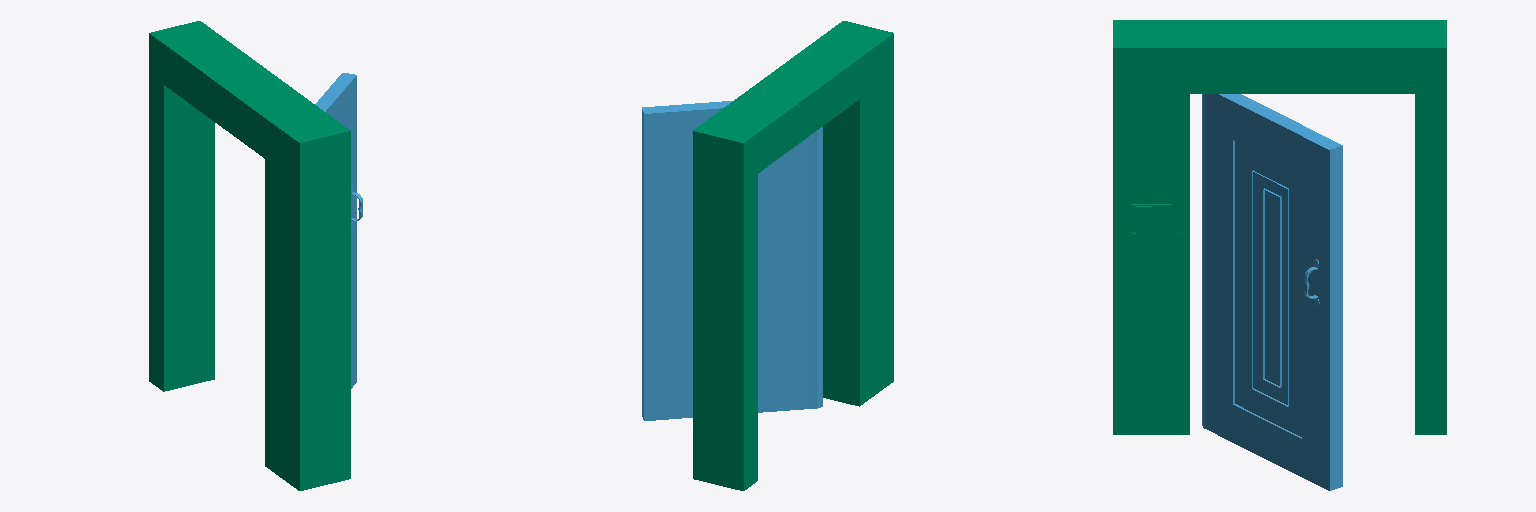
robot.urdf — partnet_eb053a51aada526b2f332eb1bb219c10:
<?xml version="1.0" ?>
<robot name="partnet_eb053a51aada526b2f332eb1bb219c10">
	<link name="base"/>
	<link name="link_0">
		<visual name="surface_board-9">
			<origin xyz="-0.2548381395579874 -0.7078869999999997 -0.1021876408472021"/>
			<geometry>
				<mesh filename="textured_objs/original-1.obj"/>
			</geometry>
		</visual>
		<visual name="surface_board-9">
			<origin xyz="-0.2548381395579874 -0.7078869999999997 -0.1021876408472021"/>
			<geometry>
				<mesh filename="textured_objs/original-3.obj"/>
			</geometry>
		</visual>
		<visual name="surface_board-9">
			<origin xyz="-0.2548381395579874 -0.7078869999999997 -0.1021876408472021"/>
			<geometry>
				<mesh filename="textured_objs/original-4.obj"/>
			</geometry>
		</visual>
		<visual name="surface_board-9">
			<origin xyz="-0.2548381395579874 -0.7078869999999997 -0.1021876408472021"/>
			<geometry>
				<mesh filename="textured_objs/original-8.obj"/>
			</geometry>
		</visual>
		<visual name="surface_board-9">
			<origin xyz="-0.2548381395579874 -0.7078869999999997 -0.1021876408472021"/>
			<geometry>
				<mesh filename="textured_objs/original-7.obj"/>
			</geometry>
		</visual>
		<visual name="surface_board-9">
			<origin xyz="-0.2548381395579874 -0.7078869999999997 -0.1021876408472021"/>
			<geometry>
				<mesh filename="textured_objs/original-10.obj"/>
			</geometry>
		</visual>
		<visual name="surface_board-9">
			<origin xyz="-0.2548381395579874 -0.7078869999999997 -0.1021876408472021"/>
			<geometry>
				<mesh filename="textured_objs/original-9.obj"/>
			</geometry>
		</visual>
		<visual name="surface_board-9">
			<origin xyz="-0.2548381395579874 -0.7078869999999997 -0.1021876408472021"/>
			<geometry>
				<mesh filename="textured_objs/original-11.obj"/>
			</geometry>
		</visual>
		<visual name="surface_board-9">
			<origin xyz="-0.2548381395579874 -0.7078869999999997 -0.1021876408472021"/>
			<geometry>
				<mesh filename="textured_objs/original-12.obj"/>
			</geometry>
		</visual>
		<visual name="surface_board-9">
			<origin xyz="-0.2548381395579874 -0.7078869999999997 -0.1021876408472021"/>
			<geometry>
				<mesh filename="textured_objs/original-13.obj"/>
			</geometry>
		</visual>
		<visual name="surface_board-9">
			<origin xyz="-0.2548381395579874 -0.7078869999999997 -0.1021876408472021"/>
			<geometry>
				<mesh filename="textured_objs/original-14.obj"/>
			</geometry>
		</visual>
		<visual name="fixed_part-10">
			<origin xyz="-0.2548381395579874 -0.7078869999999997 -0.1021876408472021"/>
			<geometry>
				<mesh filename="textured_objs/original-16.obj"/>
			</geometry>
		</visual>
		<visual name="fixed_part-10">
			<origin xyz="-0.2548381395579874 -0.7078869999999997 -0.1021876408472021"/>
			<geometry>
				<mesh filename="textured_objs/original-17.obj"/>
			</geometry>
		</visual>
		<collision>
			<origin xyz="-0.2548381395579874 -0.7078869999999997 -0.1021876408472021"/>
			<geometry>
				<mesh filename="textured_objs/original-1.obj"/>
			</geometry>
		</collision>
		<collision>
			<origin xyz="-0.2548381395579874 -0.7078869999999997 -0.1021876408472021"/>
			<geometry>
				<mesh filename="textured_objs/original-3.obj"/>
			</geometry>
		</collision>
		<collision>
			<origin xyz="-0.2548381395579874 -0.7078869999999997 -0.1021876408472021"/>
			<geometry>
				<mesh filename="textured_objs/original-4.obj"/>
			</geometry>
		</collision>
		<collision>
			<origin xyz="-0.2548381395579874 -0.7078869999999997 -0.1021876408472021"/>
			<geometry>
				<mesh filename="textured_objs/original-8.obj"/>
			</geometry>
		</collision>
		<collision>
			<origin xyz="-0.2548381395579874 -0.7078869999999997 -0.1021876408472021"/>
			<geometry>
				<mesh filename="textured_objs/original-7.obj"/>
			</geometry>
		</collision>
		<collision>
			<origin xyz="-0.2548381395579874 -0.7078869999999997 -0.1021876408472021"/>
			<geometry>
				<mesh filename="textured_objs/original-10.obj"/>
			</geometry>
		</collision>
		<collision>
			<origin xyz="-0.2548381395579874 -0.7078869999999997 -0.1021876408472021"/>
			<geometry>
				<mesh filename="textured_objs/original-9.obj"/>
			</geometry>
		</collision>
		<collision>
			<origin xyz="-0.2548381395579874 -0.7078869999999997 -0.1021876408472021"/>
			<geometry>
				<mesh filename="textured_objs/original-11.obj"/>
			</geometry>
		</collision>
		<collision>
			<origin xyz="-0.2548381395579874 -0.7078869999999997 -0.1021876408472021"/>
			<geometry>
				<mesh filename="textured_objs/original-12.obj"/>
			</geometry>
		</collision>
		<collision>
			<origin xyz="-0.2548381395579874 -0.7078869999999997 -0.1021876408472021"/>
			<geometry>
				<mesh filename="textured_objs/original-13.obj"/>
			</geometry>
		</collision>
		<collision>
			<origin xyz="-0.2548381395579874 -0.7078869999999997 -0.1021876408472021"/>
			<geometry>
				<mesh filename="textured_objs/original-14.obj"/>
			</geometry>
		</collision>
		<collision>
			<origin xyz="-0.2548381395579874 -0.7078869999999997 -0.1021876408472021"/>
			<geometry>
				<mesh filename="textured_objs/original-16.obj"/>
			</geometry>
		</collision>
		<collision>
			<origin xyz="-0.2548381395579874 -0.7078869999999997 -0.1021876408472021"/>
			<geometry>
				<mesh filename="textured_objs/original-17.obj"/>
			</geometry>
		</collision>
	</link>
	<joint name="joint_0" type="revolute">
		<origin xyz="0.2548381395579874 0.7078869999999997 0.1021876408472021"/>
		<axis xyz="0 -1 0"/>
		<child link="link_0"/>
		<parent link="link_1"/>
		<limit lower="-0.8726646259971648" upper="0.6981317007977318"/>
	</joint>
	<link name="link_1">
		<visual name="outside_frame-6">
			<origin xyz="0 0 0"/>
			<geometry>
				<mesh filename="textured_objs/original-5.obj"/>
			</geometry>
		</visual>
		<visual name="outside_frame-6">
			<origin xyz="0 0 0"/>
			<geometry>
				<mesh filename="textured_objs/original-6.obj"/>
			</geometry>
		</visual>
		<visual name="outside_frame-6">
			<origin xyz="0 0 0"/>
			<geometry>
				<mesh filename="textured_objs/new-1.obj"/>
			</geometry>
		</visual>
		<visual name="other_leaf-8">
			<origin xyz="0 0 0"/>
			<geometry>
				<mesh filename="textured_objs/new-0.obj"/>
			</geometry>
		</visual>
		<collision>
			<origin xyz="0 0 0"/>
			<geometry>
				<mesh filename="textured_objs/original-5.obj"/>
			</geometry>
		</collision>
		<collision>
			<origin xyz="0 0 0"/>
			<geometry>
				<mesh filename="textured_objs/original-6.obj"/>
			</geometry>
		</collision>
		<collision>
			<origin xyz="0 0 0"/>
			<geometry>
				<mesh filename="textured_objs/new-1.obj"/>
			</geometry>
		</collision>
		<collision>
			<origin xyz="0 0 0"/>
			<geometry>
				<mesh filename="textured_objs/new-0.obj"/>
			</geometry>
		</collision>
	</link>
	<joint name="joint_1" type="fixed">
		<origin rpy="1.570796326794897 0 -1.570796326794897" xyz="0 0 0"/>
		<child link="link_1"/>
		<parent link="base"/>
	</joint>
</robot>

--- Facts derived from the render (not from the file) ---
Views: 3 orthographic renders of the robot side by side, from view 1: azimuth 30°, elevation 25°; view 2: azimuth 150°, elevation 25°; view 3: azimuth 270°, elevation 25°.
Robot: partnet_eb053a51aada526b2f332eb1bb219c10 — 3 links, 2 joints (1 revolute, 1 fixed); root link base; default pose: all joints at 0.
Links seen in each view (by area): view 1: link_1, link_0; view 2: link_1, link_0; view 3: link_1, link_0.
Link boxes in pixels (x1,y1,x2,y2): link_1: [149, 21, 350, 490]; link_0: [315, 73, 362, 388]; link_1: [693, 21, 893, 490]; link_0: [642, 101, 822, 420]; link_1: [1113, 20, 1446, 434]; link_0: [1202, 94, 1342, 490].
Bounding box of the posed robot: 0.6953 × 1.17 × 1.49 m (x, y, z).
Meshes: 17 distinct files referenced, 11 mesh visuals loaded (11 OBJ); not drawn: 6 (reference not matched to a file when rendering).